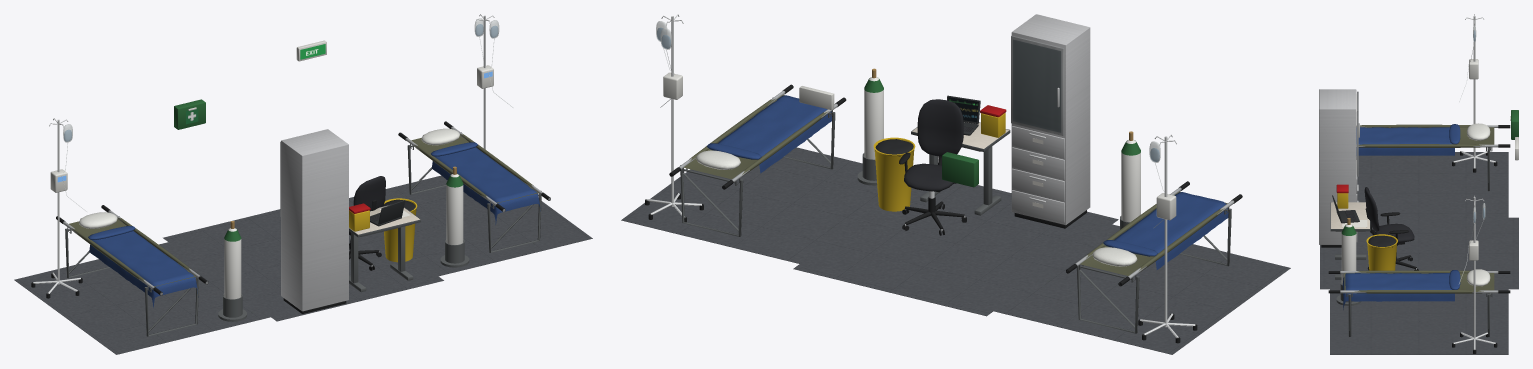
The model's file is ateps-fitout.glb.
3 views of the same model, side by side, from view 1: azimuth 30°, elevation 25°; view 2: azimuth 150°, elevation 25°; view 3: azimuth 270°, elevation 25° (orthographic). The views are drawn at different scales.
Parts seen in each view (by area): view 1: ATEPS_fitout; view 2: ATEPS_fitout; view 3: ATEPS_fitout.
Boxes of the visible parts, x1,y1,x2,y2 form: ATEPS_fitout: [14, 14, 592, 354]; ATEPS_fitout: [621, 14, 1290, 354]; ATEPS_fitout: [1319, 14, 1518, 354].
Bounding box in the file's own units: 6.08 × 2.06 × 2.53.
Materials: 34 (12 with a texture image).
